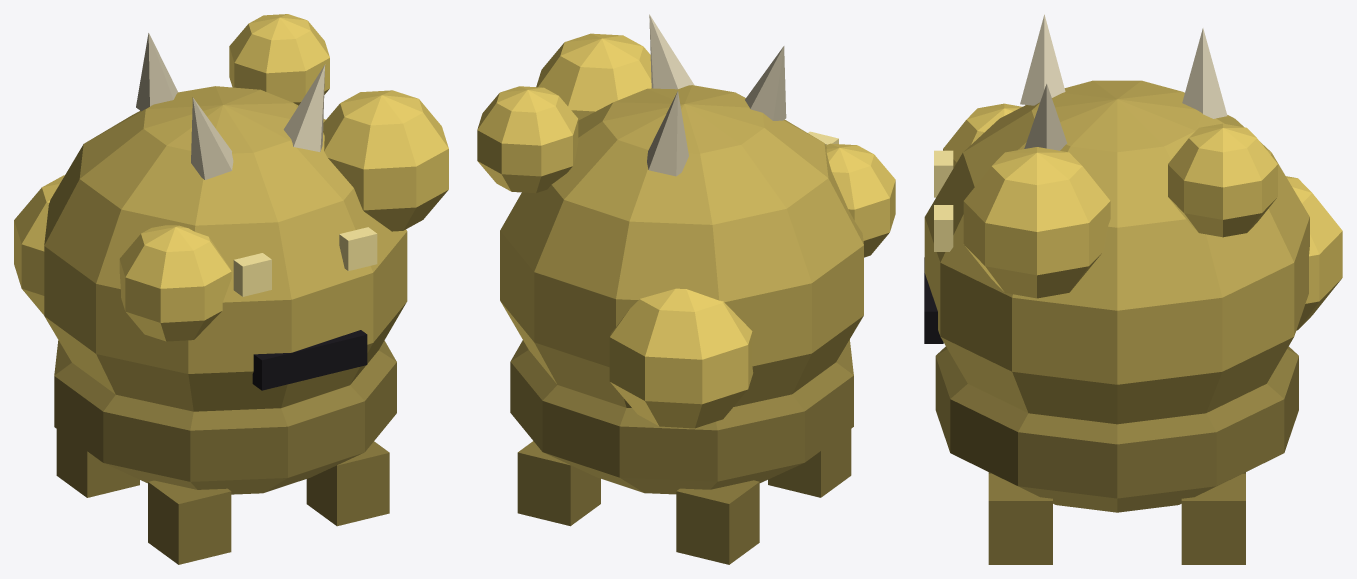
The model's file is enemy_splitter.glb.
3 views of the same model, side by side, from view 1: azimuth 30°, elevation 25°; view 2: azimuth 150°, elevation 25°; view 3: azimuth 270°, elevation 25° (orthographic). The views are drawn at different scales.
Visible parts, largest first — view 1: enemy_splitter; view 2: enemy_splitter; view 3: enemy_splitter.
Boxes of the visible parts, x1,y1,x2,y2 form: enemy_splitter: (14,14,448,564); enemy_splitter: (477,14,895,564); enemy_splitter: (924,14,1342,564).
Bounding box in the file's own units: 0.6323 × 0.7984 × 0.6502.
